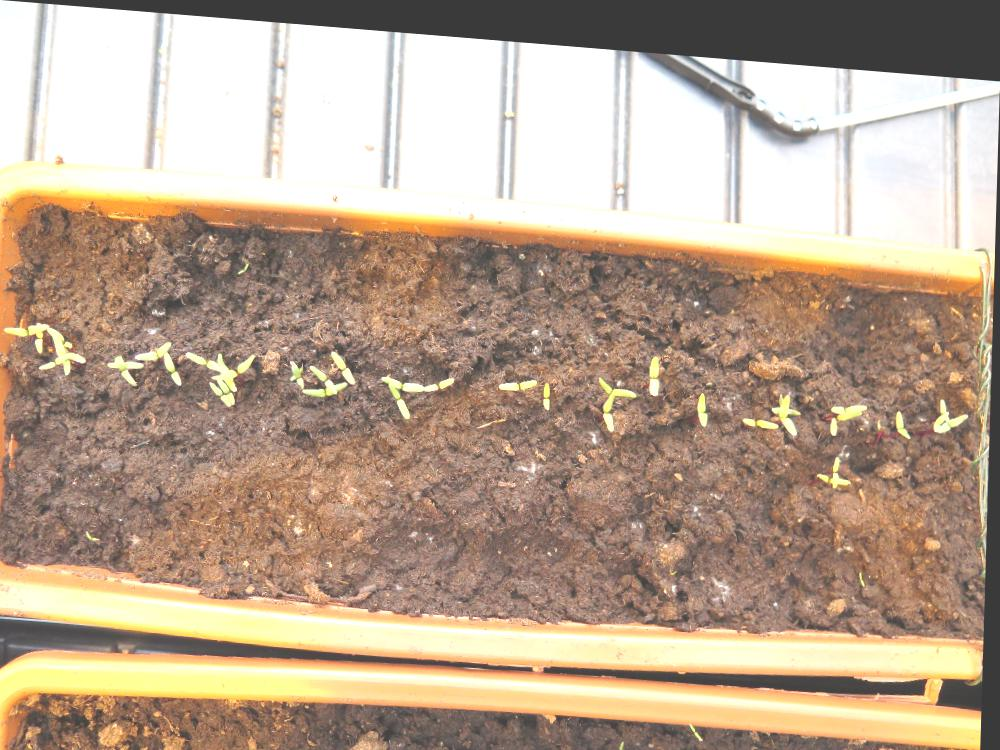crop: (498, 366, 539, 383), (649, 340, 662, 385), (696, 376, 710, 416), (896, 392, 913, 424), (541, 370, 552, 403)
weed: (236, 254, 249, 272), (858, 554, 868, 574), (87, 527, 103, 539)
